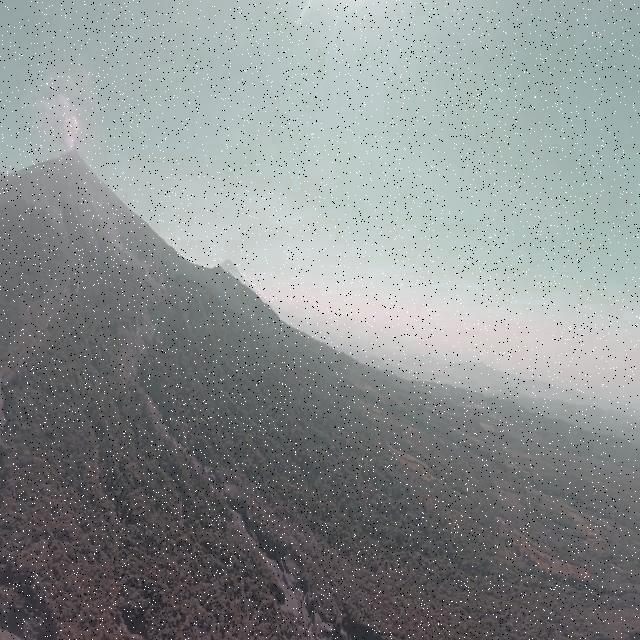Plume: (34, 91, 82, 148), (63, 117, 79, 148)
Summit: (58, 147, 86, 167)
